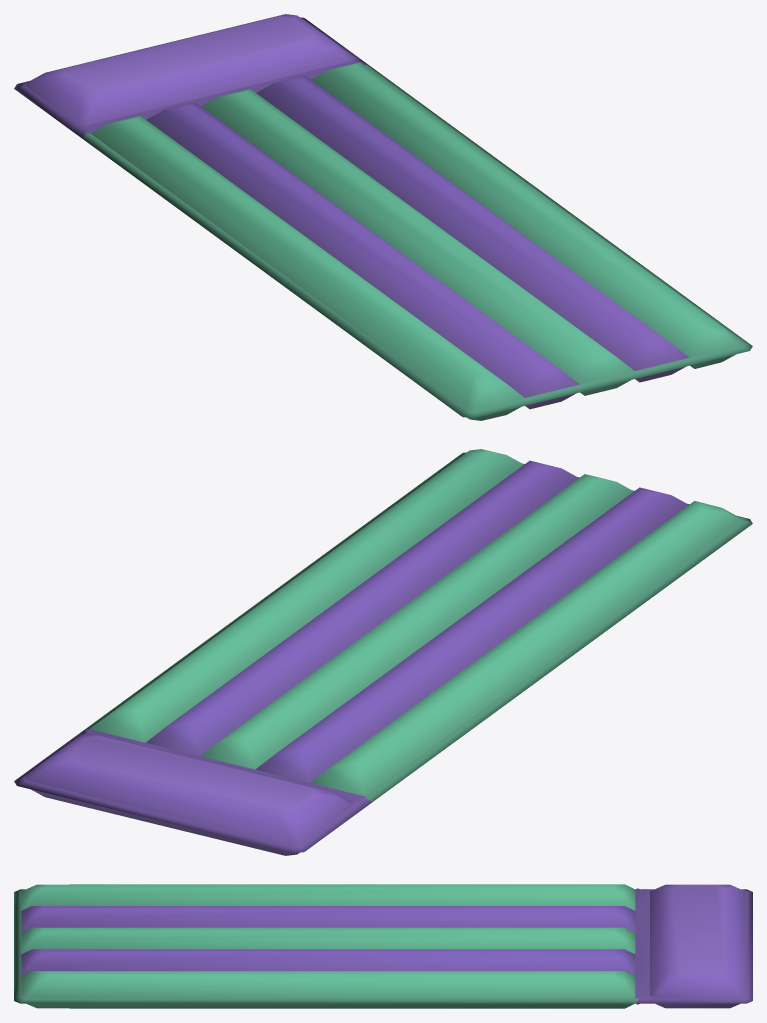
Rendered from Mattress_Stripes_B.fbx.
3 renders of one model, top to bottom at view 1: azimuth 30°, elevation 25°; view 2: azimuth 150°, elevation 25°; view 3: azimuth 270°, elevation 25°, orthographic. The views are drawn at different scales.
Visible parts, largest first — view 1: Mattress_Stripes_B; view 2: Mattress_Stripes_B; view 3: Mattress_Stripes_B.
Part boxes in pixels (bbox=[...]): Mattress_Stripes_B: bbox=[14, 14, 752, 420]; Mattress_Stripes_B: bbox=[14, 449, 752, 855]; Mattress_Stripes_B: bbox=[14, 884, 752, 1008].
Bounding box in the file's own units: 79.6 × 10.83 × 217.
